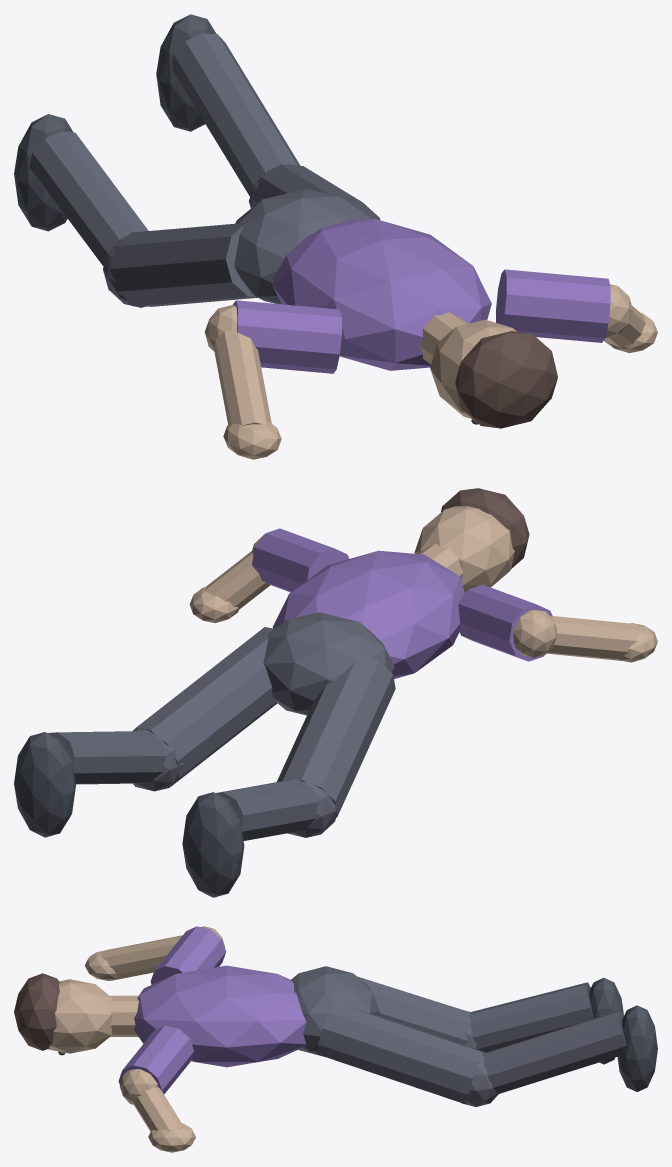
3 renders of one model, top to bottom at view 1: azimuth 30°, elevation 25°; view 2: azimuth 150°, elevation 25°; view 3: azimuth 270°, elevation 25°, orthographic. The views are drawn at different scales.
Visible parts, largest first — view 1: world; view 2: world; view 3: world.
Boxes of the visible parts, x1=… form: world: x1=14, y1=14, x2=657, y2=459; world: x1=14, y1=488, x2=657, y2=897; world: x1=14, y1=926, x2=657, y2=1152.
Bounding box in the file's own units: 1.25 × 0.4125 × 2.01.
